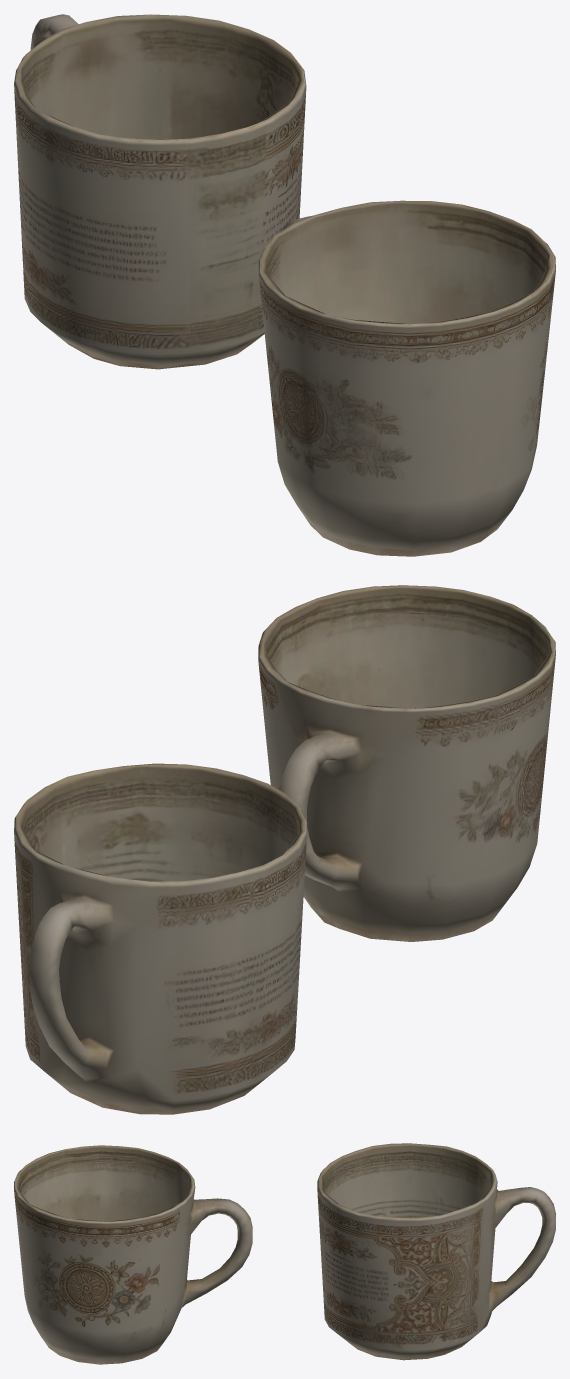
The model's file is Teacups.fbx.
3 views of the same model, one above another, from view 1: azimuth 30°, elevation 25°; view 2: azimuth 150°, elevation 25°; view 3: azimuth 270°, elevation 25° (orthographic). The views are drawn at different scales.
Visible parts, largest first — view 1: tripo_node_1b218b89-4149-4673-bd14-617ed387f3ed; view 2: tripo_node_1b218b89-4149-4673-bd14-617ed387f3ed; view 3: tripo_node_1b218b89-4149-4673-bd14-617ed387f3ed.
Part boxes in pixels (x1,y1,x2,y2): tripo_node_1b218b89-4149-4673-bd14-617ed387f3ed: (14,14,555,556); tripo_node_1b218b89-4149-4673-bd14-617ed387f3ed: (14,585,555,1114); tripo_node_1b218b89-4149-4673-bd14-617ed387f3ed: (14,1143,555,1364).
Size of the model in its own units: 33.79 by 32.62 by 99.8.
1 material, 1 textured.
